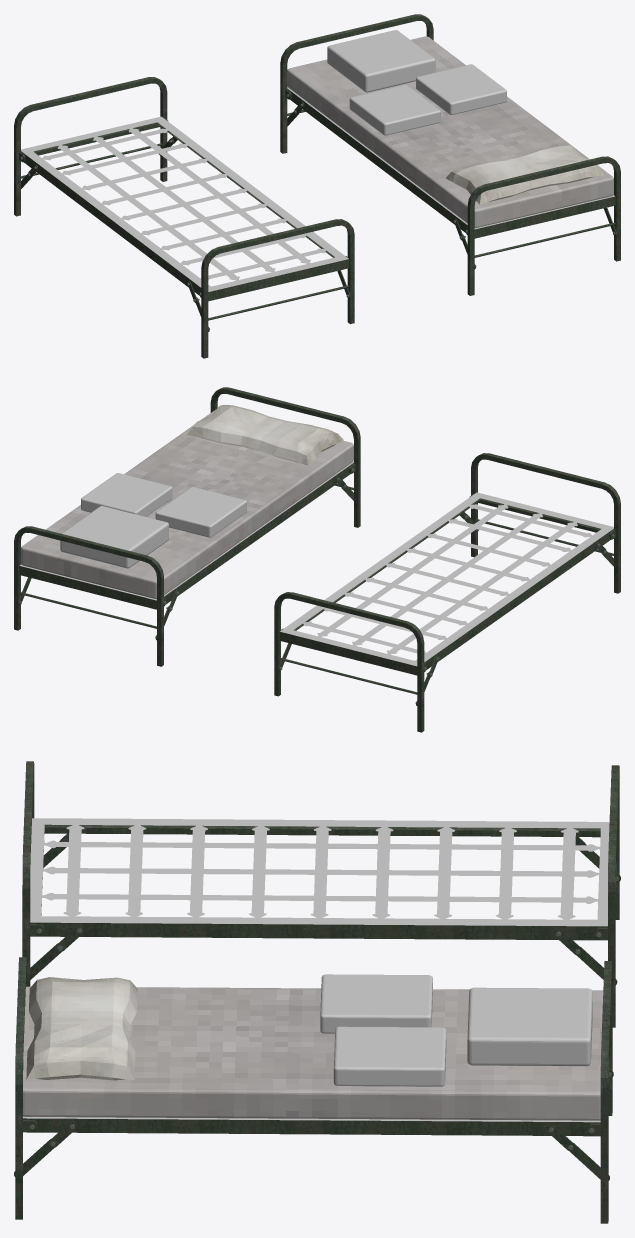
File: bed.obj
3 views of the same model, one above another, from view 1: azimuth 30°, elevation 25°; view 2: azimuth 150°, elevation 25°; view 3: azimuth 270°, elevation 25° (orthographic). The views are drawn at different scales.
Visible parts, largest first — view 1: Mesh.106_Mesh.027_Mattress01.0, Mesh.116_Mesh.054_Mesh12.001, Mesh.007_Mesh.139_Blanket01_.0, Mesh.060_Mesh.017_Pillow01_1.0, Mesh.025_Mesh.089_Mesh01.001, Mesh.029_Mesh.123_Blanket001.0, Mesh.009_Mesh.062_Blanket02_.0, Mesh.095_Mesh.059_BedLegs3.001, Mesh.028_Mesh.096_BedLegs2.001, Mesh.026_Mesh.074_BedLegs4.001, Mesh.073_Mesh.117_BedLegs1.001; view 2: Mesh.106_Mesh.027_Mattress01.0, Mesh.116_Mesh.054_Mesh12.001, Mesh.060_Mesh.017_Pillow01_1.0, Mesh.007_Mesh.139_Blanket01_.0, Mesh.025_Mesh.089_Mesh01.001, Mesh.029_Mesh.123_Blanket001.0, Mesh.026_Mesh.074_BedLegs4.001, Mesh.073_Mesh.117_BedLegs1.001, Mesh.009_Mesh.062_Blanket02_.0, Mesh.095_Mesh.059_BedLegs3.001, Mesh.028_Mesh.096_BedLegs2.001; view 3: Mesh.106_Mesh.027_Mattress01.0, Mesh.116_Mesh.054_Mesh12.001, Mesh.060_Mesh.017_Pillow01_1.0, Mesh.007_Mesh.139_Blanket01_.0, Mesh.025_Mesh.089_Mesh01.001, Mesh.009_Mesh.062_Blanket02_.0, Mesh.029_Mesh.123_Blanket001.0, Mesh.073_Mesh.117_BedLegs1.001, Mesh.026_Mesh.074_BedLegs4.001, Mesh.028_Mesh.096_BedLegs2.001, Mesh.095_Mesh.059_BedLegs3.001, Mesh.037_Mesh.094_Mesh07.001 (+2 smaller).
Part boxes in pixels (box(x1,y1,x2,y2)): Mesh.106_Mesh.027_Mattress01.0: box(287, 36, 613, 227); Mesh.116_Mesh.054_Mesh12.001: box(21, 116, 349, 301); Mesh.007_Mesh.139_Blanket01_.0: box(327, 30, 435, 92); Mesh.060_Mesh.017_Pillow01_1.0: box(445, 144, 603, 204); Mesh.025_Mesh.089_Mesh01.001: box(287, 87, 615, 238); Mesh.029_Mesh.123_Blanket001.0: box(349, 84, 440, 135); Mesh.009_Mesh.062_Blanket02_.0: box(416, 64, 506, 114); Mesh.095_Mesh.059_BedLegs3.001: box(199, 219, 354, 358); Mesh.028_Mesh.096_BedLegs2.001: box(466, 156, 620, 295); Mesh.026_Mesh.074_BedLegs4.001: box(14, 77, 168, 216); Mesh.073_Mesh.117_BedLegs1.001: box(280, 14, 433, 153); Mesh.106_Mesh.027_Mattress01.0: box(21, 409, 353, 599); Mesh.116_Mesh.054_Mesh12.001: box(279, 492, 613, 675); Mesh.060_Mesh.017_Pillow01_1.0: box(186, 405, 343, 465); Mesh.007_Mesh.139_Blanket01_.0: box(60, 506, 168, 568); Mesh.025_Mesh.089_Mesh01.001: box(19, 461, 353, 609); Mesh.029_Mesh.123_Blanket001.0: box(155, 487, 246, 537); Mesh.026_Mesh.074_BedLegs4.001: box(274, 592, 426, 732); Mesh.073_Mesh.117_BedLegs1.001: box(14, 526, 165, 666); Mesh.009_Mesh.062_Blanket02_.0: box(81, 473, 172, 516); Mesh.095_Mesh.059_BedLegs3.001: box(469, 453, 620, 593); Mesh.028_Mesh.096_BedLegs2.001: box(210, 387, 360, 527); Mesh.106_Mesh.027_Mattress01.0: box(23, 986, 603, 1120); Mesh.116_Mesh.054_Mesh12.001: box(30, 818, 609, 940); Mesh.060_Mesh.017_Pillow01_1.0: box(26, 977, 137, 1080); Mesh.007_Mesh.139_Blanket01_.0: box(467, 987, 592, 1066); Mesh.025_Mesh.089_Mesh01.001: box(23, 1116, 600, 1136); Mesh.009_Mesh.062_Blanket02_.0: box(333, 1026, 446, 1086); Mesh.029_Mesh.123_Blanket001.0: box(320, 974, 432, 1033); Mesh.073_Mesh.117_BedLegs1.001: box(587, 961, 612, 1223); Mesh.026_Mesh.074_BedLegs4.001: box(594, 765, 619, 1027); Mesh.028_Mesh.096_BedLegs2.001: box(15, 957, 36, 1219); Mesh.095_Mesh.059_BedLegs3.001: box(22, 761, 44, 986); Mesh.037_Mesh.094_Mesh07.001: box(547, 1125, 609, 1180).
Bounding box in the file's own units: 2.38 × 0.575 × 1.96.
